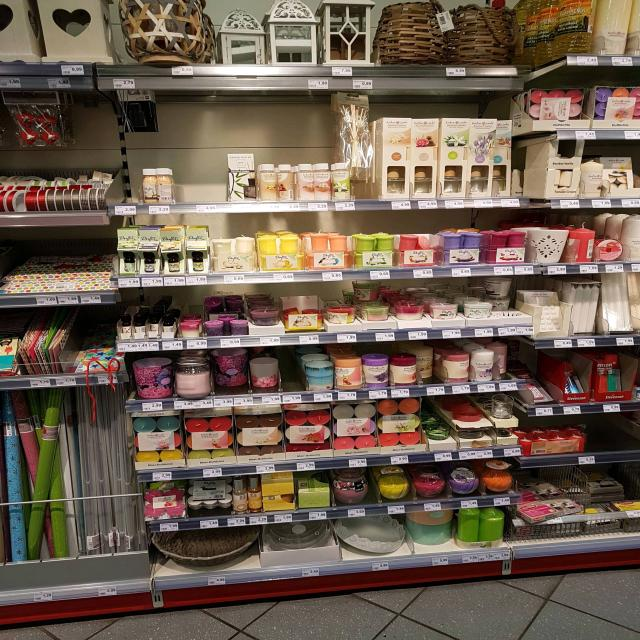void: (200, 145, 224, 215), (62, 303, 82, 386), (613, 414, 640, 463), (282, 346, 304, 404), (177, 145, 196, 211), (589, 416, 609, 467)
